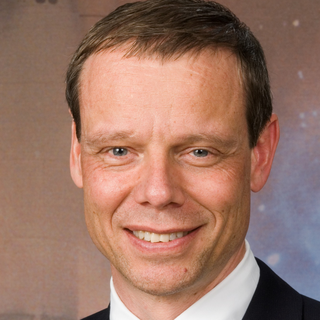eye: (175, 141, 225, 165), (96, 140, 141, 164)
